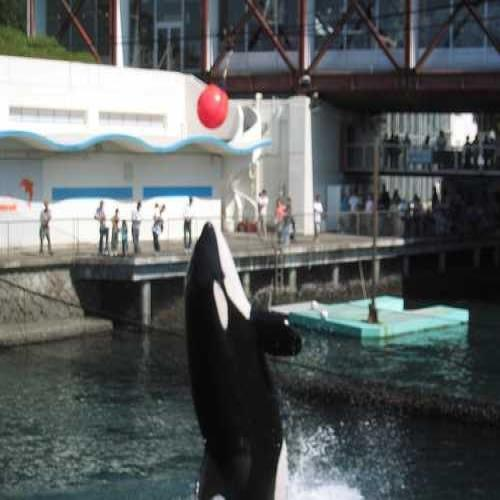killer_whale-endangered: (178, 206, 306, 500)
